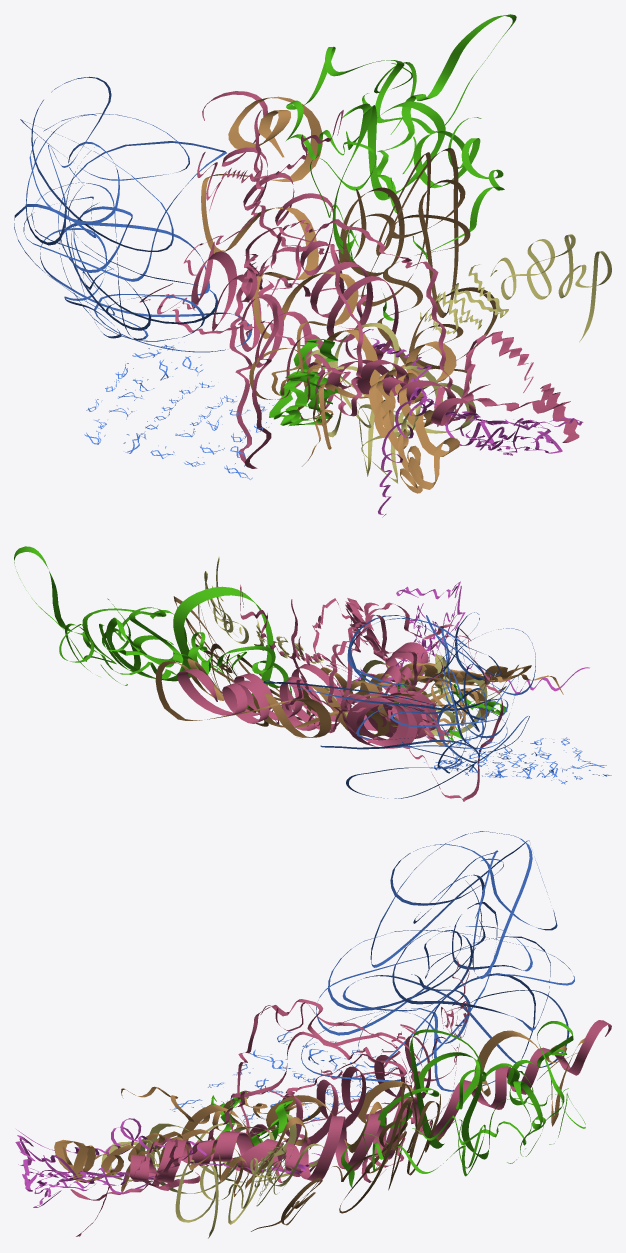
Rendered from 2019-ncov.gltf.
The picture shows the model from 3 angles, top to bottom: view 1: azimuth 30°, elevation 25°; view 2: azimuth 150°, elevation 25°; view 3: azimuth 270°, elevation 25°; orthographic projection. The views are drawn at different scales.
Bounding box in the file's own units: 1.98 × 1.08 × 1.88.
2 materials, 2 textured.
